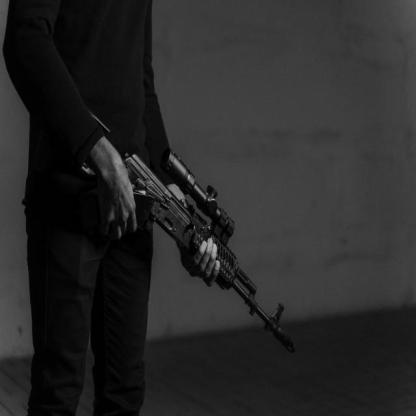handgun: (127, 149, 299, 356)
